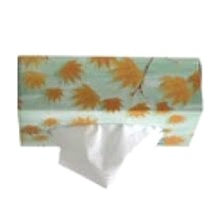book: (11, 50, 208, 153)
tissue: (52, 118, 168, 194)
